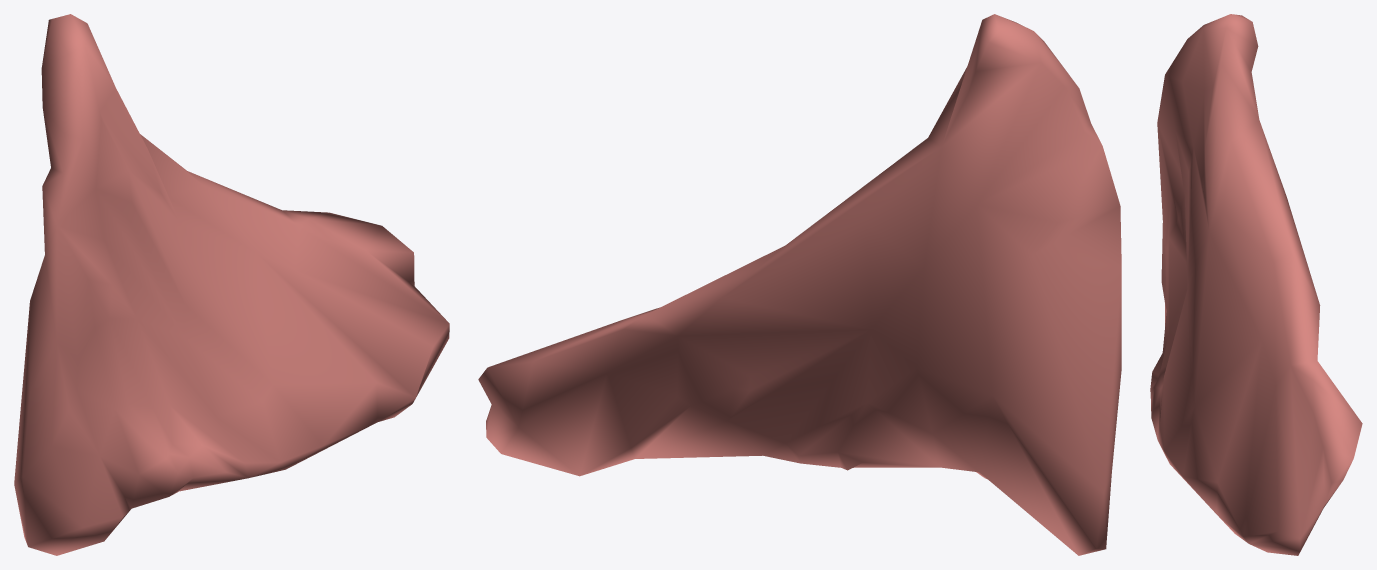
The picture shows the model from 3 angles, left to right: view 1: azimuth 30°, elevation 25°; view 2: azimuth 150°, elevation 25°; view 3: azimuth 270°, elevation 25°; orthographic projection. The views are drawn at different scales.
Parts seen in each view (by area): view 1: ZA_aceda29658af6544; view 2: ZA_aceda29658af6544; view 3: ZA_aceda29658af6544.
Boxes of the visible parts, <box> form: ZA_aceda29658af6544: <box>14,14,449,555</box>; ZA_aceda29658af6544: <box>478,14,1121,555</box>; ZA_aceda29658af6544: <box>1150,14,1362,555</box>.
Size of the model in its own units: 0.0166 by 0.0161 by 0.00757.
